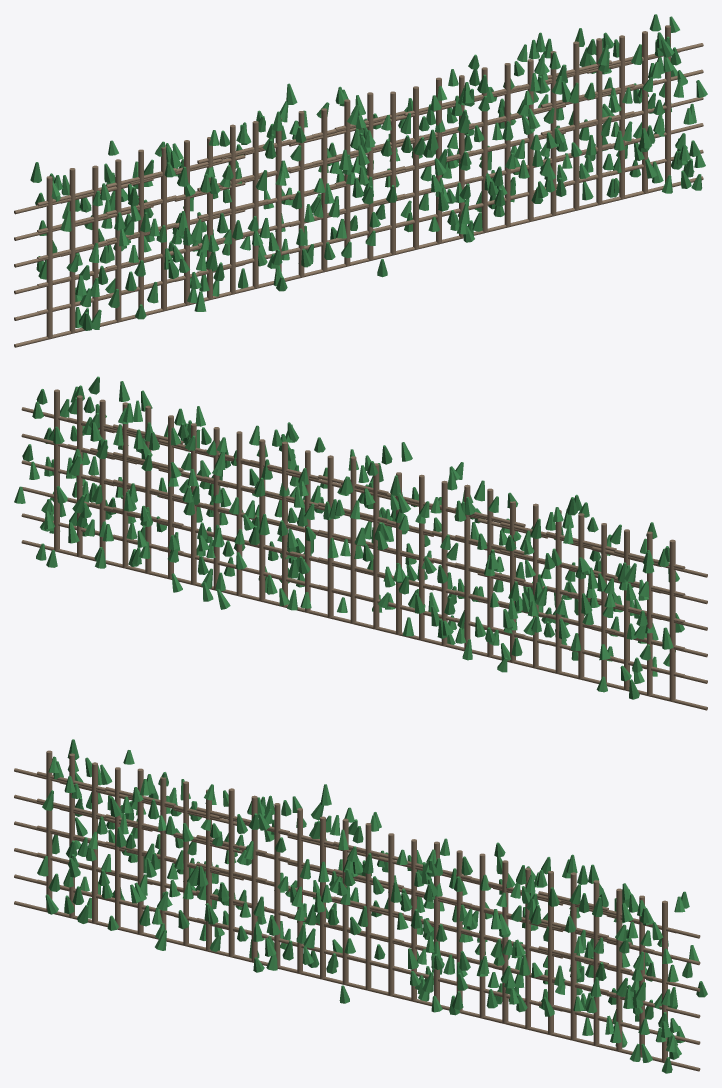
3 renders of one model, top to bottom at view 1: azimuth 30°, elevation 25°; view 2: azimuth 150°, elevation 25°; view 3: azimuth 330°, elevation 25°, orthographic.
Parts seen in each view (by area): view 1: Cylinder, Cylinder.168, Cylinder.007, Cylinder.161, Cylinder.084, Cylinder.063, Cylinder.140, Cylinder.056, Cylinder.112, Cylinder.021, Cylinder.105, Cylinder.133 (+15 smaller); view 2: Cylinder, Cylinder.098, Cylinder.091, Cylinder.063, Cylinder.105, Cylinder.028, Cylinder.168, Cylinder.035, Cylinder.133, Cylinder.126, Cylinder.070, Cylinder.189 (+16 smaller); view 3: Cylinder.056, Cylinder.105, Cylinder.161, Cylinder.098, Cylinder.070, Cylinder.133, Cylinder.063, Cylinder.028, Cylinder.175, Cylinder.014, Cylinder, Cylinder.035 (+15 smaller).
Part boxes in pixels (<box>): Cylinder: <box>46,176,52,338</box>; Cylinder.168: <box>596,38,602,204</box>; Cylinder.007: <box>69,168,75,333</box>; Cylinder.161: <box>573,41,579,210</box>; Cylinder.084: <box>321,108,327,271</box>; Cylinder.063: <box>252,121,258,288</box>; Cylinder.140: <box>504,63,510,226</box>; Cylinder.056: <box>230,124,235,293</box>; Cylinder.112: <box>413,86,418,249</box>; Cylinder.021: <box>115,159,121,321</box>; Cylinder.105: <box>390,91,395,254</box>; Cylinder.133: <box>481,67,487,232</box>; Cylinder: <box>669,539,675,701</box>; Cylinder.098: <box>350,456,356,623</box>; Cylinder.091: <box>373,463,379,629</box>; Cylinder.063: <box>464,484,470,649</box>; Cylinder.105: <box>327,455,333,617</box>; Cylinder.028: <box>578,513,584,679</box>; Cylinder.168: <box>122,402,128,567</box>; Cylinder.035: <box>555,510,561,673</box>; Cylinder.133: <box>236,431,242,595</box>; Cylinder.126: <box>259,439,265,601</box>; Cylinder.070: <box>441,480,447,645</box>; Cylinder.189: <box>54,389,59,551</box>; Cylinder.056: <box>228,788,234,956</box>; Cylinder.105: <box>388,833,394,995</box>; Cylinder.161: <box>570,872,576,1040</box>; Cylinder.098: <box>365,823,371,990</box>; Cylinder.070: <box>274,803,280,967</box>; Cylinder.133: <box>479,853,485,1017</box>; Cylinder.063: <box>251,795,257,962</box>; Cylinder.028: <box>137,768,143,934</box>; Cylinder.175: <box>616,888,622,1051</box>; Cylinder.014: <box>92,762,97,923</box>; Cylinder: <box>46,750,52,911</box>; Cylinder.035: <box>160,776,166,929</box>.
Size of the model in its own units: 10.72 by 2.67 by 1.21.
